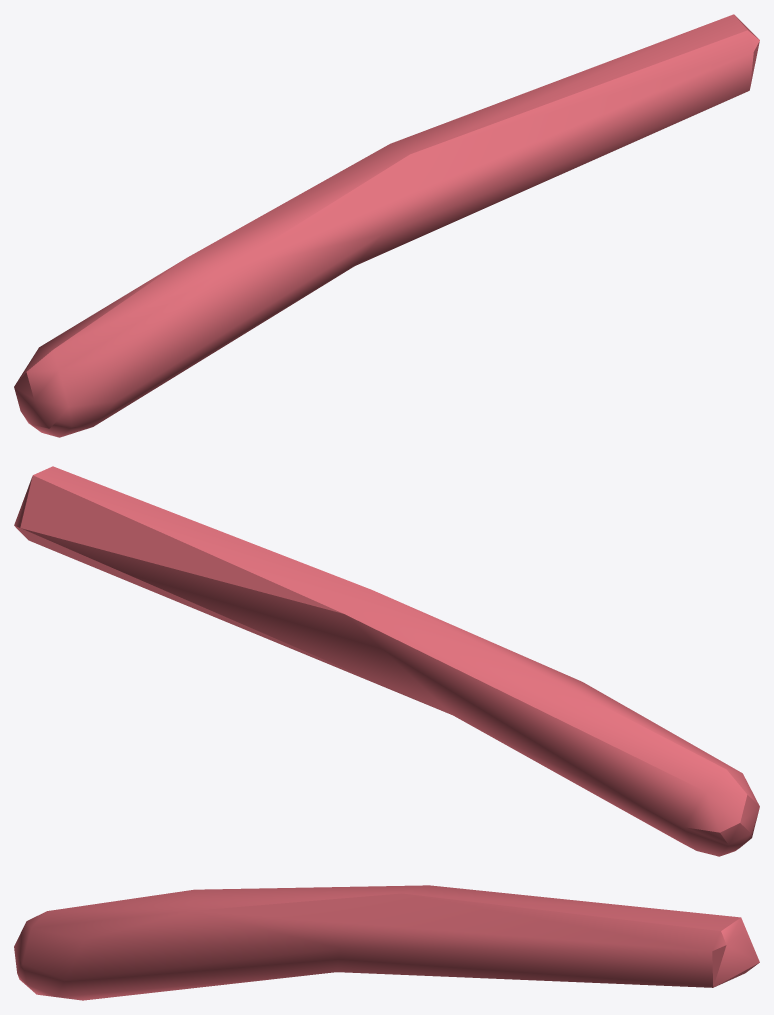
File: fma9422_fj3055.glb
The picture shows the model from 3 angles, top to bottom: view 1: azimuth 30°, elevation 25°; view 2: azimuth 150°, elevation 25°; view 3: azimuth 330°, elevation 25°; orthographic projection. The views are drawn at different scales.
Visible parts, largest first — view 1: FMA9422_FJ3055; view 2: FMA9422_FJ3055; view 3: FMA9422_FJ3055.
Part boxes in pixels (x1,y1,x2,y2): FMA9422_FJ3055: [14, 14, 759, 437]; FMA9422_FJ3055: [14, 466, 759, 856]; FMA9422_FJ3055: [14, 885, 759, 1000].
Bounding box in the file's own units: 0.0158 × 0.00483 × 0.00204.
